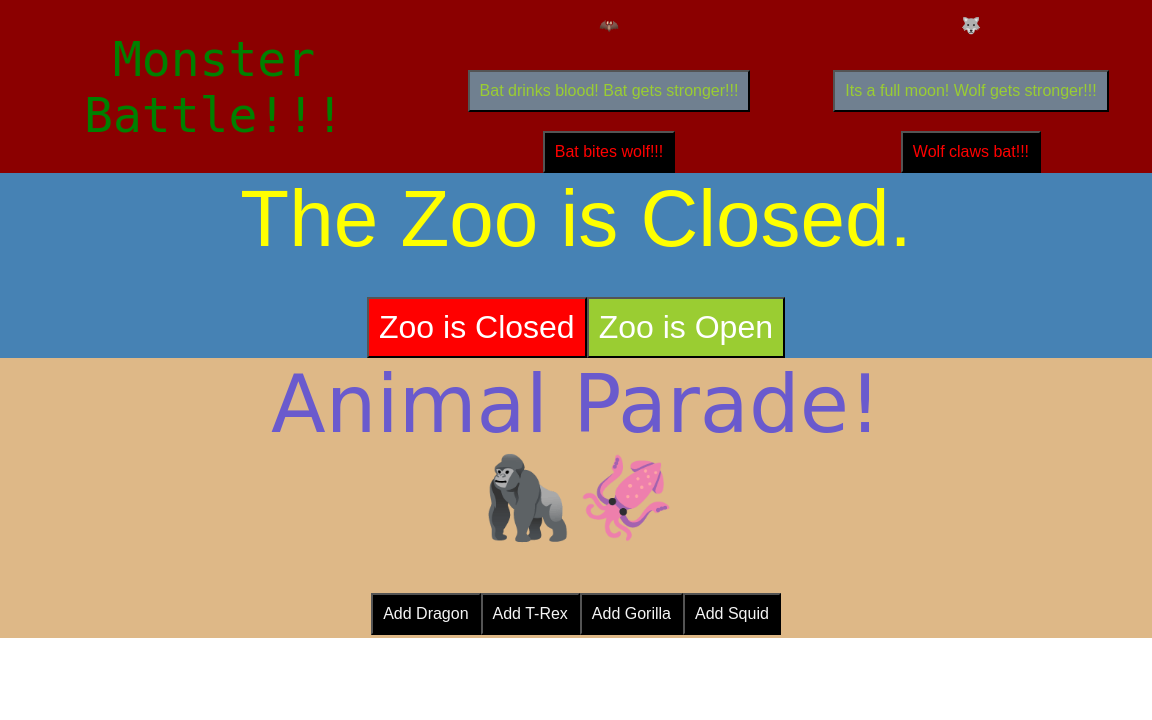
Test case: dragon and trex is added to dom on click of each button
This screenshot has width=1152, height=720.
Click the button "Add Dragon".
click(426, 614)  # box [371,593,481,635]
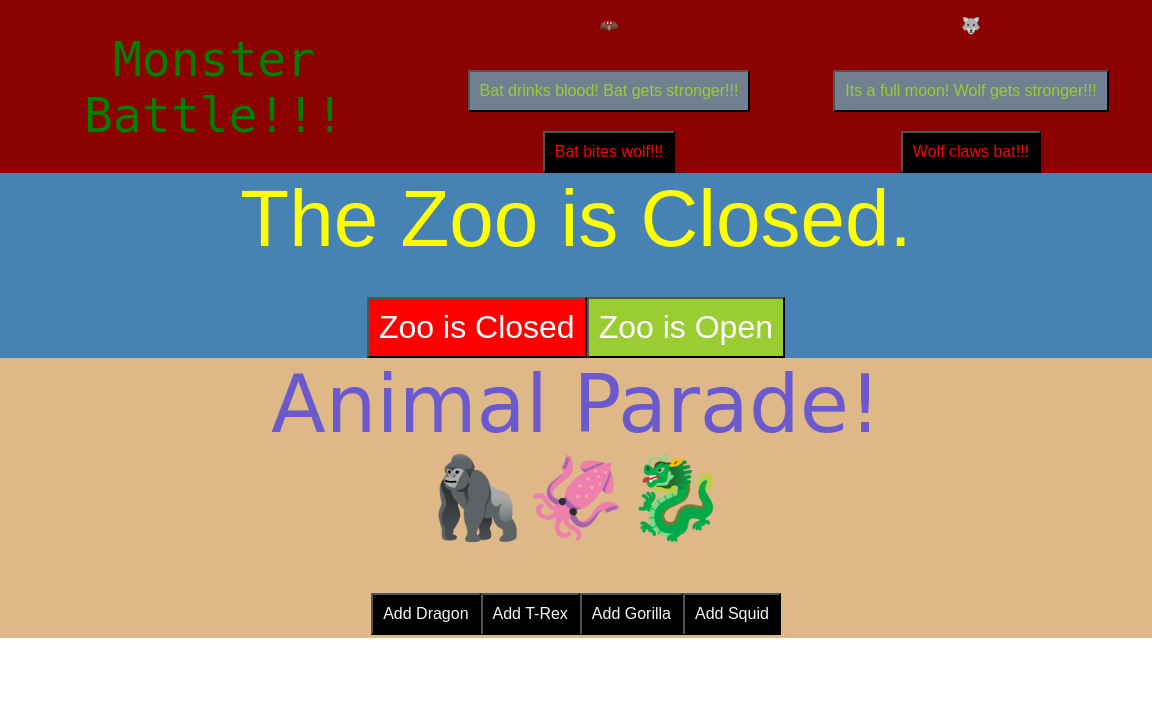
Check: the text "🐉" is shown, box [626,451,726,544]
Click the button "Add T-Rex".
click(530, 614)  # box [480,593,580,635]
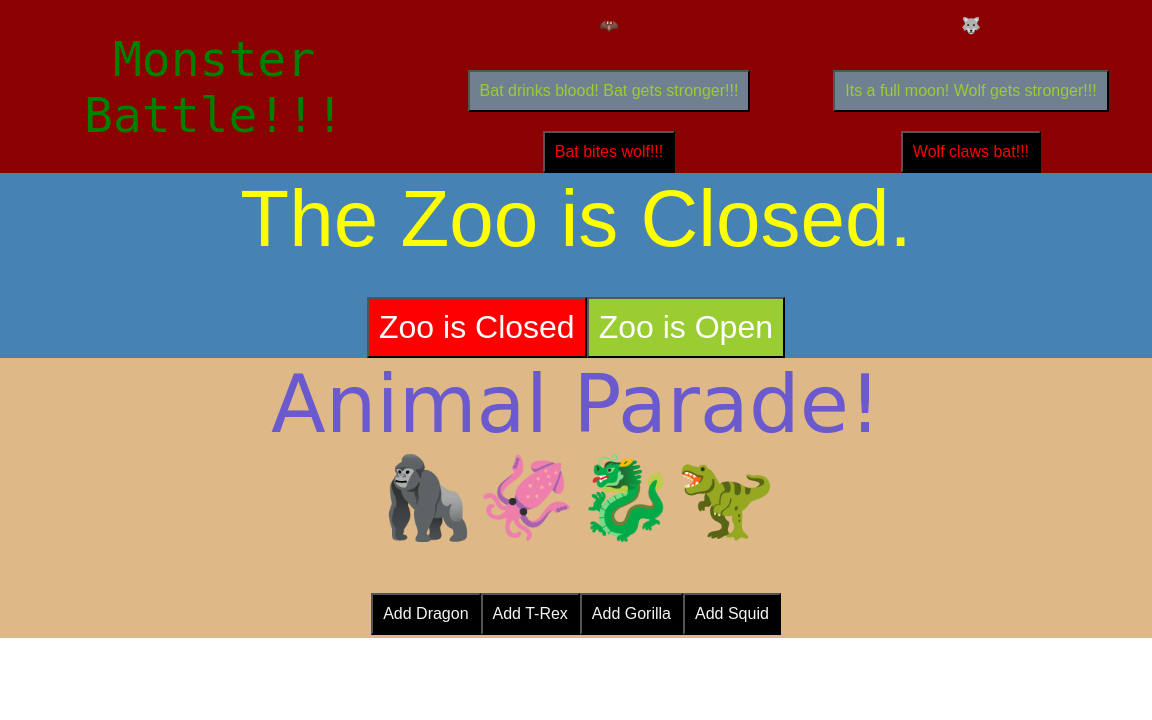
Check: the text "🦖" is shown, box [676,451,776,544]
